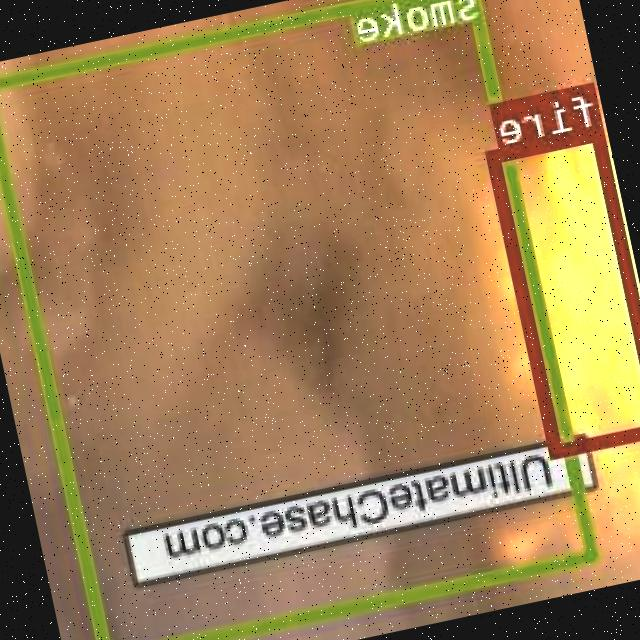fire: (489, 123, 640, 454)
smoke: (0, 0, 601, 640)
